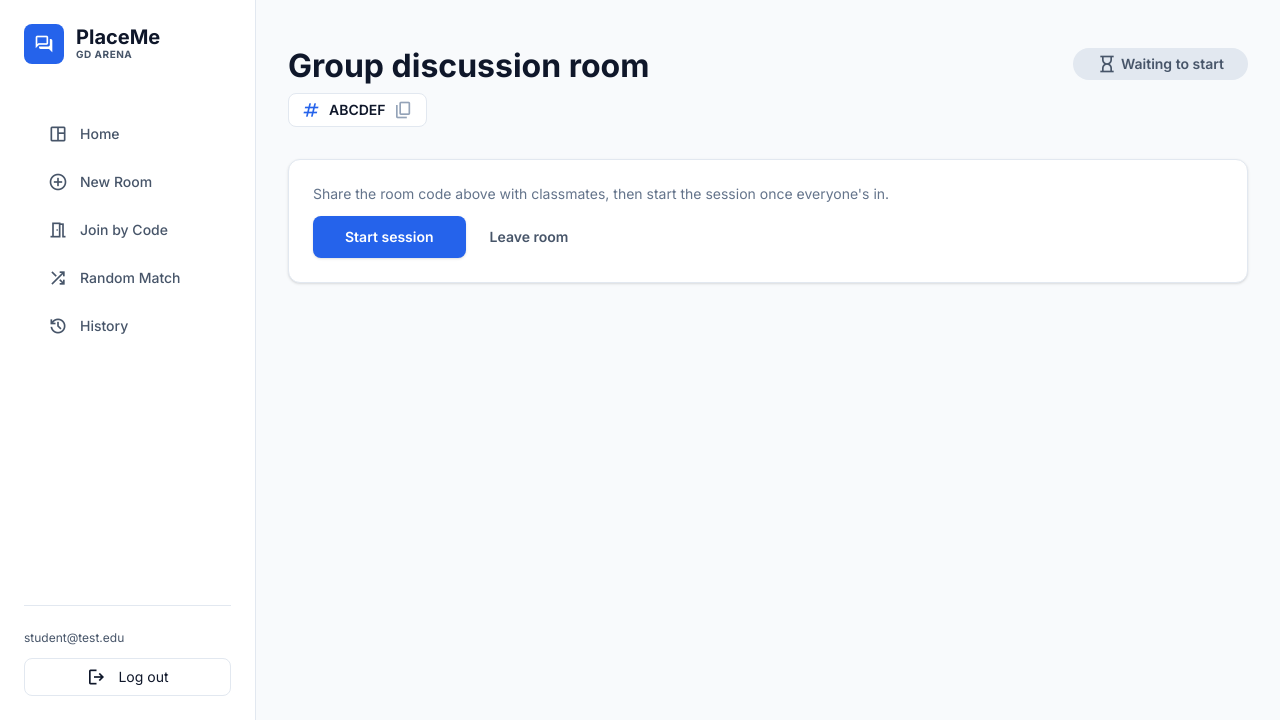
Test: LobbyPage start-session busy state › shows a spinner and busy label while the creator starts the session
Click the button "Start session" at (389, 237), box [313, 216, 466, 258]
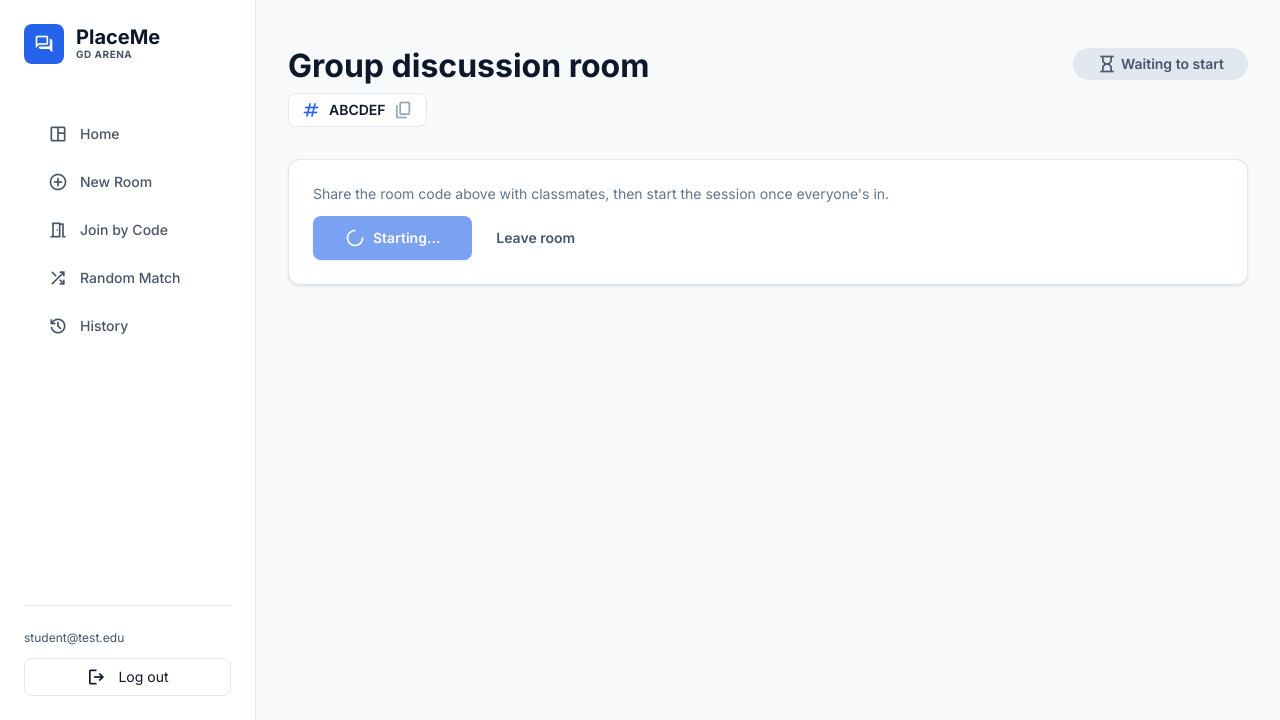
Now the text "Starting…" is shown, box [345, 228, 440, 248]
Now the text "progress_activity" in the row of "Leave room" is shown, box [345, 226, 365, 250]
